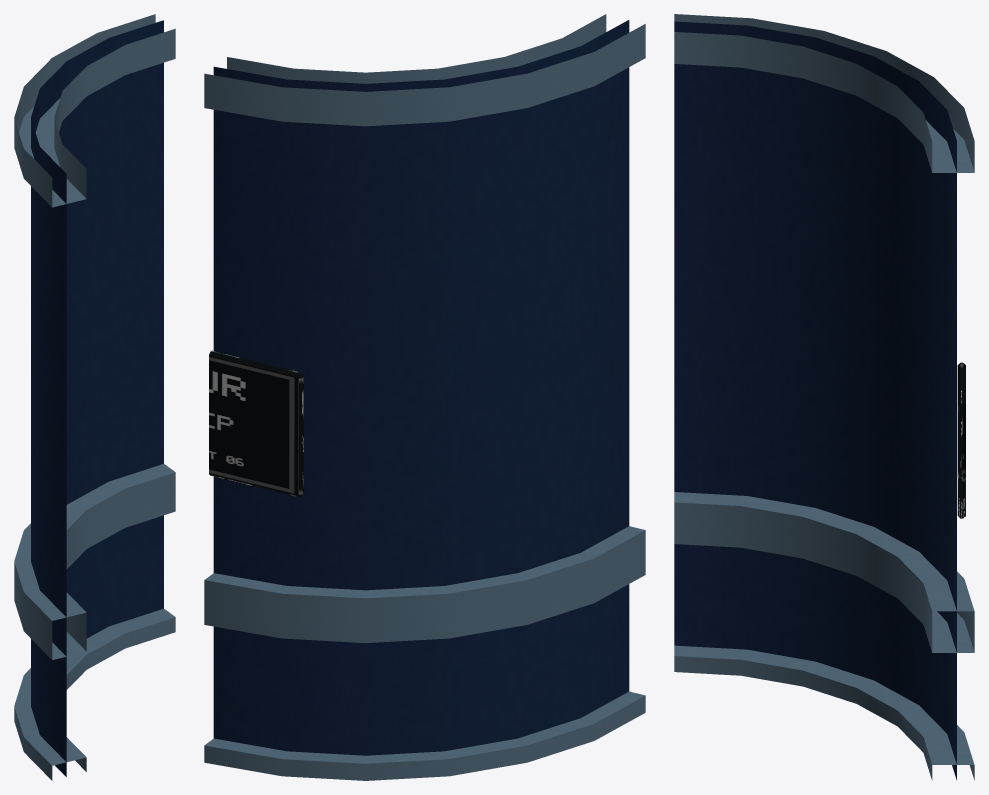
Rendered from cell_4.obj.
3 views of the same model, side by side, from view 1: azimuth 30°, elevation 25°; view 2: azimuth 150°, elevation 25°; view 3: azimuth 270°, elevation 25° (orthographic). The views are drawn at different scales.
Parts seen in each view (by area): view 1: cell_4; view 2: cell_4; view 3: cell_4.
Boxes of the visible parts, x1,y1,x2,y2 form: cell_4: [14, 14, 175, 780]; cell_4: [204, 14, 645, 780]; cell_4: [674, 14, 974, 780].
Bounding box in the file's own units: 0.425 × 1 × 0.425.
